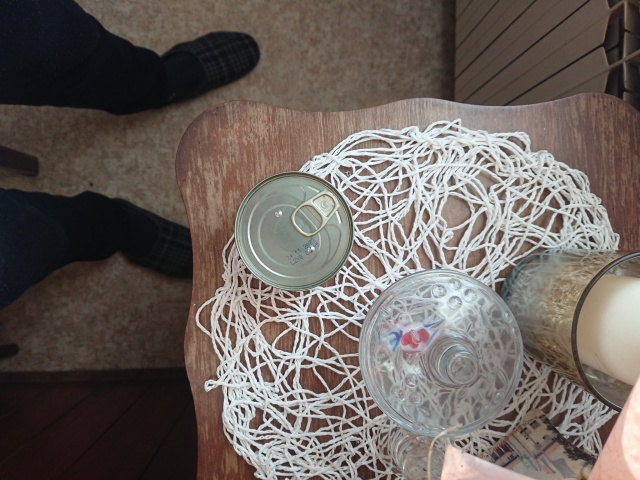Podravka Luncheon Meat 150g: (234, 168, 357, 294)
